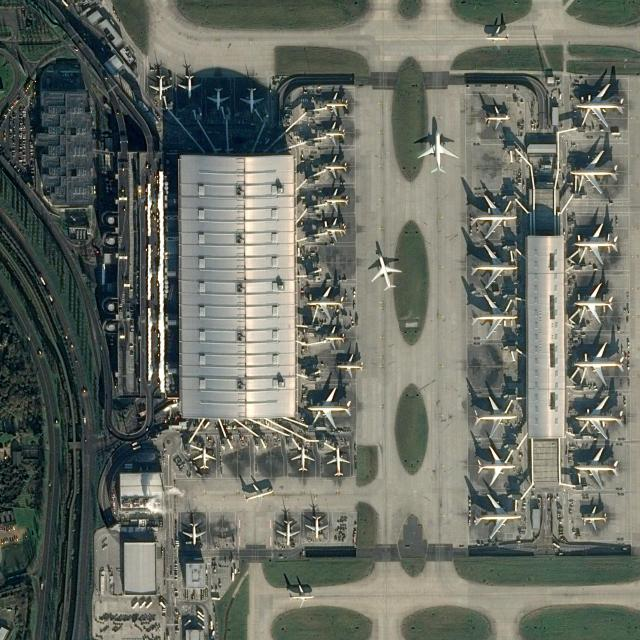aircraft: (574, 340, 625, 386), (470, 294, 518, 340), (470, 244, 518, 289), (470, 194, 517, 239), (473, 494, 521, 538), (576, 396, 624, 440), (570, 150, 618, 194), (576, 84, 624, 128), (573, 446, 619, 488), (474, 395, 517, 439), (306, 386, 351, 428), (574, 223, 618, 265), (418, 130, 458, 174), (574, 282, 614, 324), (476, 446, 516, 486), (306, 287, 344, 319), (371, 252, 402, 290), (244, 482, 274, 508), (326, 446, 350, 476), (336, 354, 364, 378), (240, 86, 264, 114), (288, 584, 314, 609), (324, 154, 348, 180), (291, 445, 315, 471), (580, 506, 606, 530), (148, 74, 172, 100), (322, 121, 346, 146), (324, 188, 348, 213), (276, 520, 299, 546), (484, 106, 510, 129), (182, 522, 206, 546), (177, 74, 201, 98), (206, 87, 230, 111), (325, 92, 348, 116), (323, 218, 346, 242), (322, 326, 345, 350), (192, 446, 216, 469), (485, 26, 509, 48), (305, 516, 328, 538)
